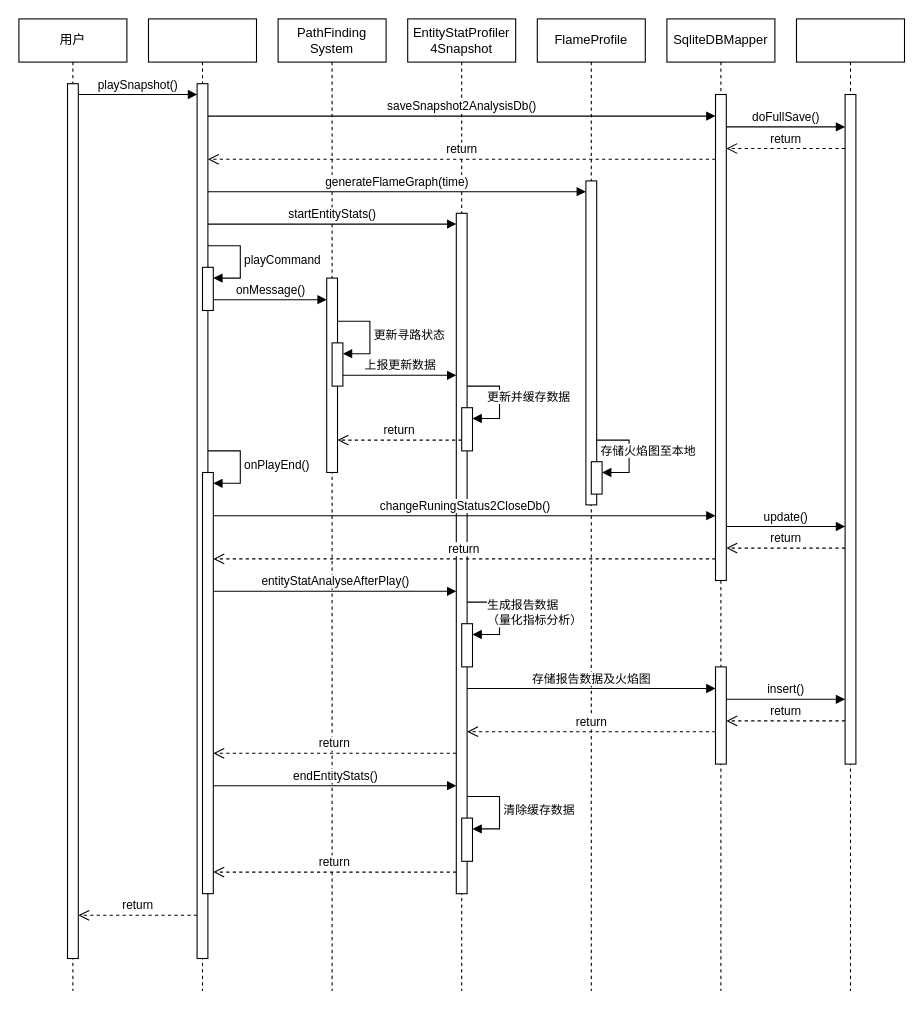
Some shapes in this 923 by 1010 pixel diagram are drawn without their labels. The shapes that lost their labels are listed below. From the top down, each one's box as (x1, y1, x2, y2) in pixels, then its label:
(147, 18, 256, 991): SnapshotMgr
(795, 18, 905, 991): Sqlite
